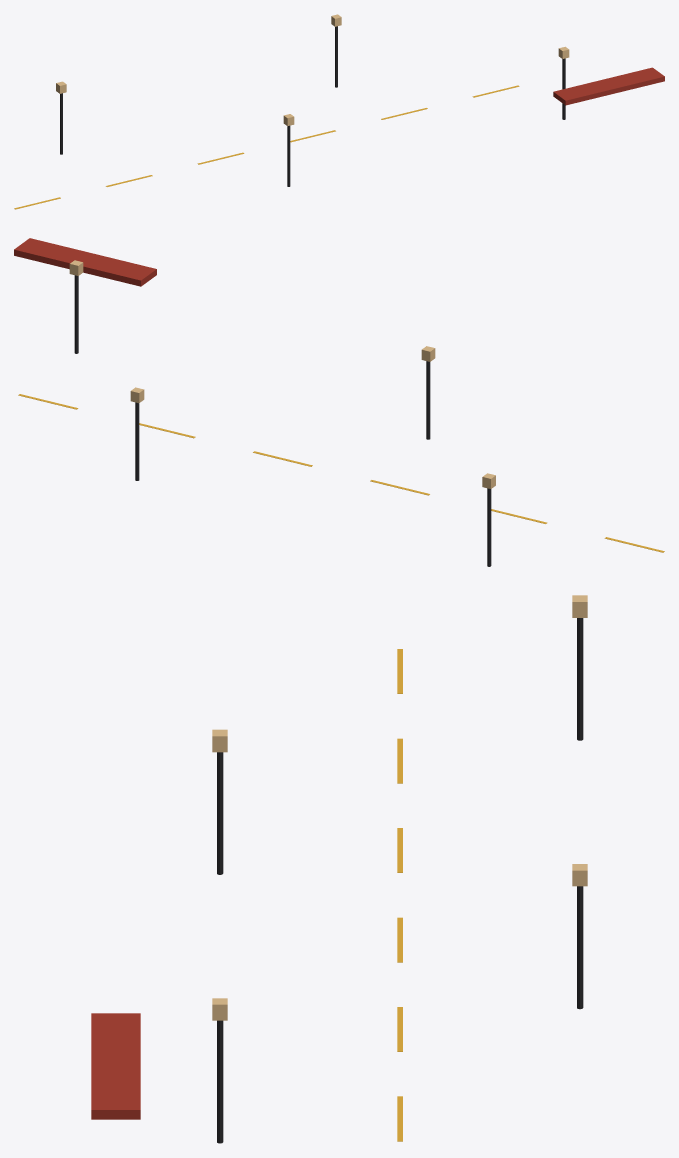
The model's file is chunk_2_0.glb.
3 views of the same model, one above another, from view 1: azimuth 30°, elevation 25°; view 2: azimuth 150°, elevation 25°; view 3: azimuth 270°, elevation 25° (orthographic). The views are drawn at different scales.
Visible parts, largest first — view 1: chunk_2_0__building, chunk_2_0__lamp, chunk_2_0__ground; view 2: chunk_2_0__building, chunk_2_0__lamp, chunk_2_0__ground; view 3: chunk_2_0__building, chunk_2_0__lamp, chunk_2_0__ground.
Boxes of the visible parts, x1,y1,x2,y2 form: chunk_2_0__building: [553, 67, 664, 105]; chunk_2_0__lamp: [56, 14, 569, 186]; chunk_2_0__ground: [14, 85, 519, 209]; chunk_2_0__building: [14, 238, 156, 286]; chunk_2_0__lamp: [69, 260, 495, 566]; chunk_2_0__ground: [18, 394, 664, 552]; chunk_2_0__building: [91, 1013, 140, 1119]; chunk_2_0__lamp: [212, 595, 587, 1143]; chunk_2_0__ground: [397, 649, 402, 1141].
Bounding box in the file's own units: 37.5 × 4.4 × 14.07.
